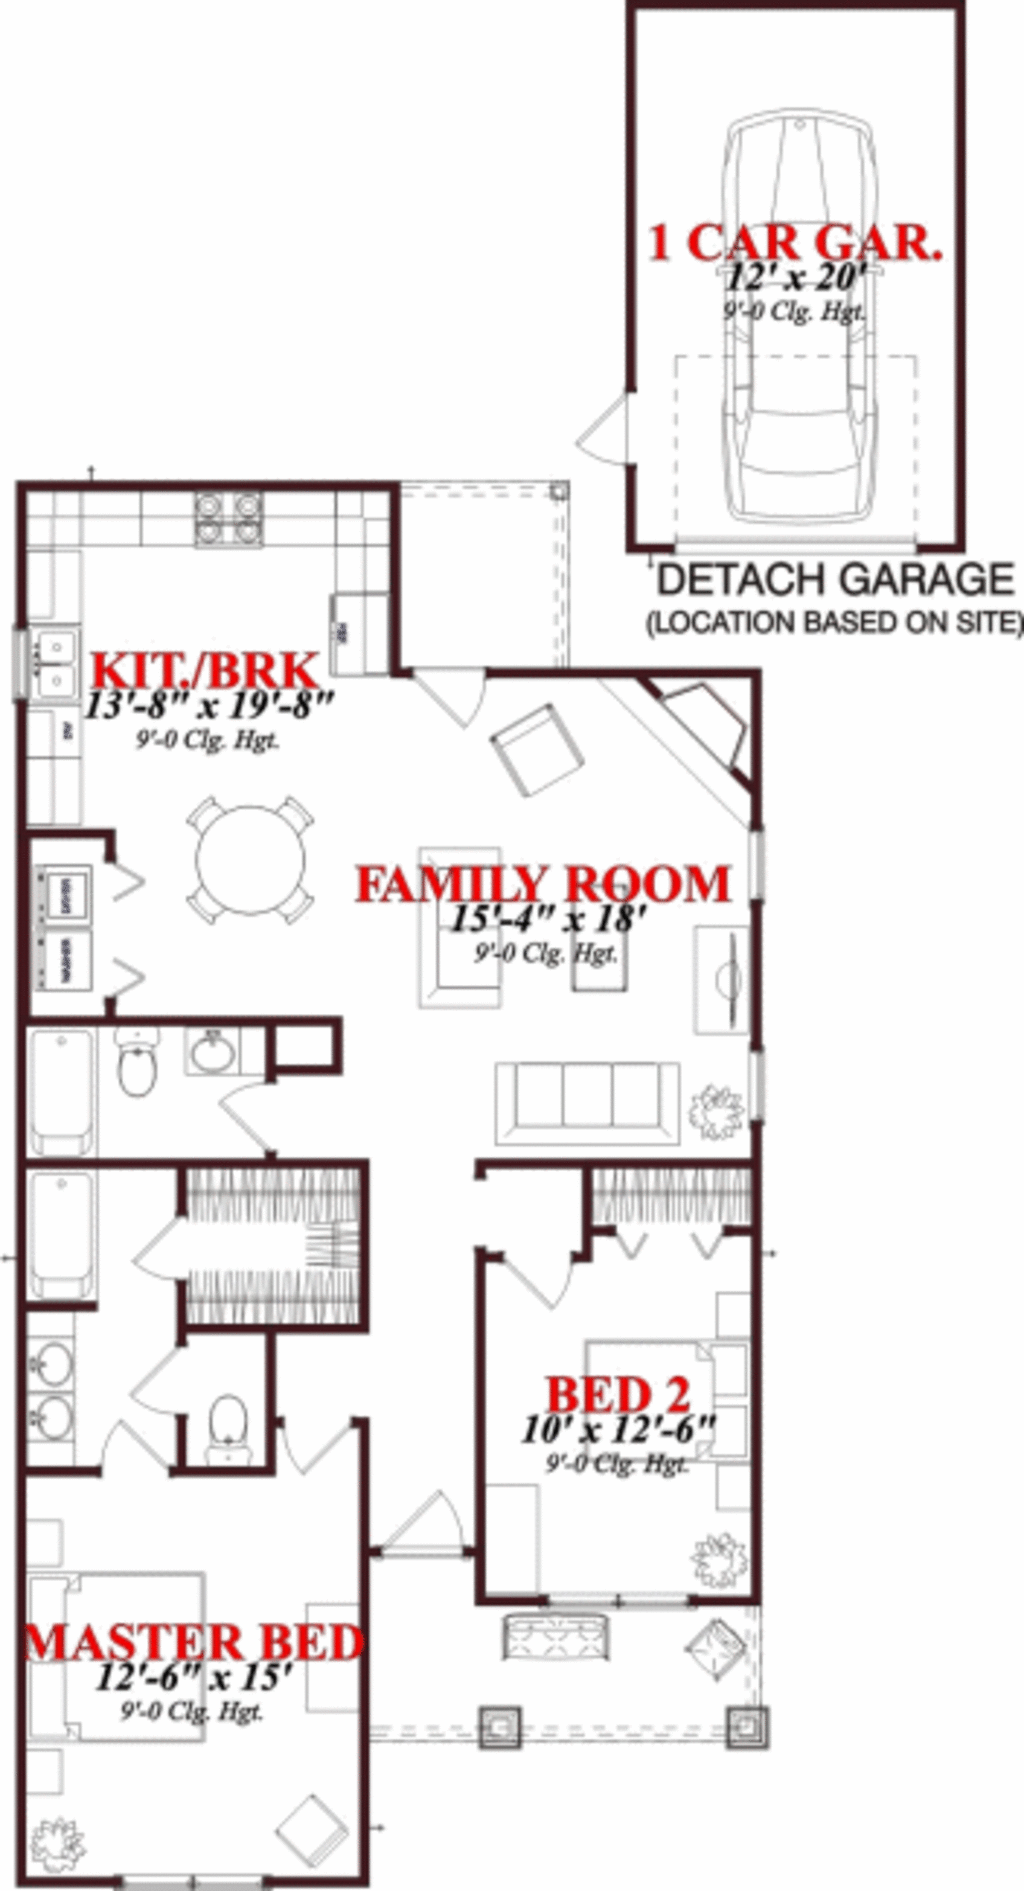bed: (11, 1571, 248, 1749), (584, 1330, 776, 1471)
door: (356, 1489, 469, 1577), (213, 1080, 328, 1166), (102, 1210, 222, 1286), (261, 1407, 358, 1480), (409, 661, 504, 732), (573, 377, 637, 474), (504, 1246, 586, 1314), (90, 1416, 163, 1483)
large_sink: (193, 1380, 255, 1467)
large_sofa: (480, 1039, 702, 1142), (416, 845, 516, 1016)
round_table: (163, 768, 361, 963)
small_sink: (8, 1310, 84, 1483), (163, 1027, 252, 1085)
small_sofa: (475, 707, 622, 813)
tub: (5, 1160, 111, 1301), (32, 1030, 119, 1174)
twin_sink: (11, 622, 111, 719)
window: (661, 529, 934, 569), (105, 1859, 282, 1891), (734, 1043, 787, 1133), (734, 813, 781, 910)
